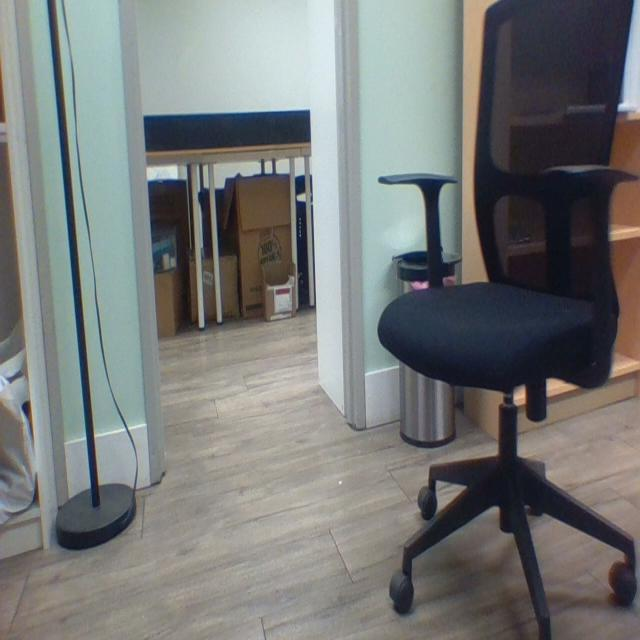chair: (378, 1, 640, 640)
